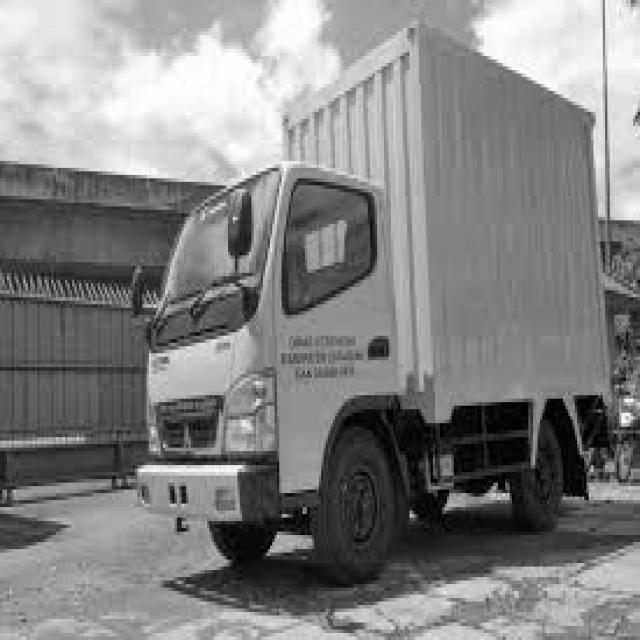truck: (121, 148, 412, 594)
